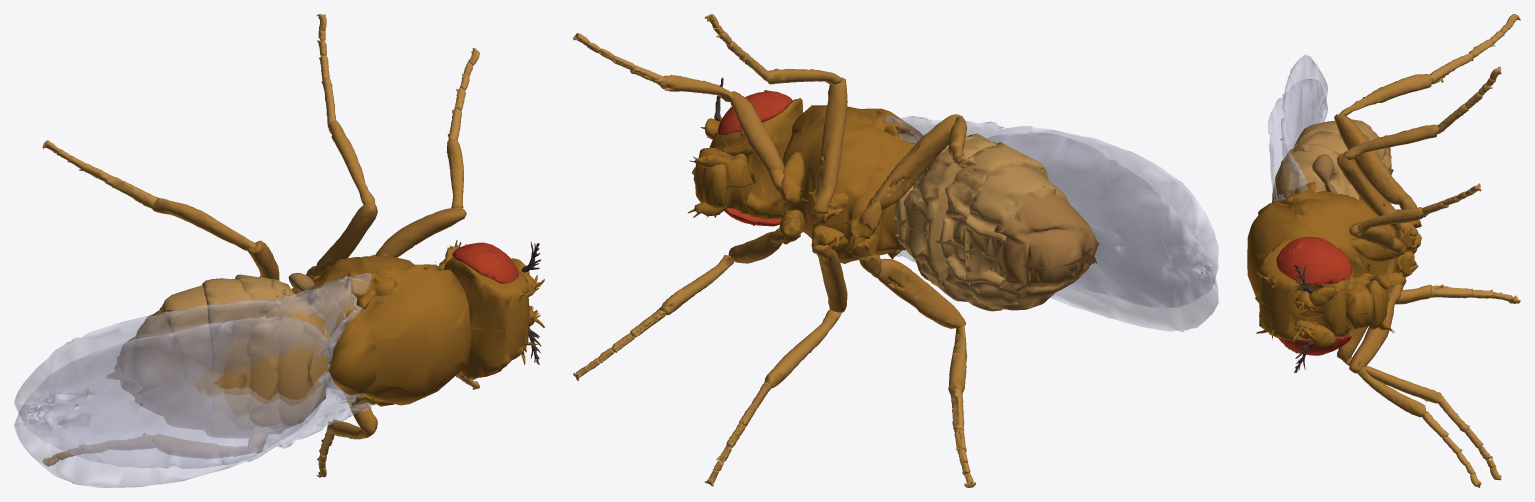
File: fly.glb
3 renders of one model, left to right at view 1: azimuth 30°, elevation 25°; view 2: azimuth 150°, elevation 25°; view 3: azimuth 270°, elevation 25°, orthographic. The views are drawn at different scales.
Parts seen in each view (by area): view 1: l_wing, r_wing, c_thorax, c_abdomen4, c_head, c_abdomen12, c_abdomen6, c_abdomen5, c_abdomen3, lf_trochanterfemur, l_eye, lm_trochanterfemur (+8 smaller); view 2: l_wing, r_wing, c_thorax, c_abdomen6, c_abdomen5, c_abdomen3, c_abdomen4, c_head, lh_trochanterfemur, rh_trochanterfemur, lm_trochanterfemur, c_rostrum (+13 smaller); view 3: c_thorax, c_head, l_wing, r_wing, l_eye, c_abdomen12, lh_trochanterfemur, c_rostrum, lm_trochanterfemur, lh_tibia, rf_trochanterfemur, lm_tibia (+23 smaller).
Part boxes in pixels (x1=…): l_wing: x1=14, y1=273, x2=371, y2=468; r_wing: x1=14, y1=316, x2=371, y2=487; c_thorax: x1=291, y1=256, x2=471, y2=406; c_abdomen4: x1=202, y1=278, x2=254, y2=438; c_head: x1=443, y1=257, x2=540, y2=379; c_abdomen12: x1=271, y1=278, x2=328, y2=428; c_abdomen6: x1=107, y1=309, x2=191, y2=418; c_abdomen5: x1=159, y1=285, x2=219, y2=429; c_abdomen3: x1=235, y1=274, x2=285, y2=435; lf_trochanterfemur: x1=371, y1=206, x2=466, y2=257; l_eye: x1=452, y1=242, x2=518, y2=283; lm_trochanterfemur: x1=306, y1=203, x2=377, y2=277; l_wing: x1=884, y1=114, x2=1218, y2=308; r_wing: x1=896, y1=132, x2=1218, y2=331; c_thorax: x1=782, y1=105, x2=922, y2=263; c_abdomen6: x1=994, y1=195, x2=1099, y2=300; c_abdomen5: x1=960, y1=166, x2=1069, y2=310; c_abdomen3: x1=900, y1=133, x2=996, y2=301; c_abdomen4: x1=935, y1=142, x2=1048, y2=311; c_head: x1=706, y1=97, x2=803, y2=219; lh_trochanterfemur: x1=859, y1=114, x2=966, y2=230; rh_trochanterfemur: x1=859, y1=253, x2=966, y2=328; lm_trochanterfemur: x1=812, y1=77, x2=847, y2=213; c_rostrum: x1=687, y1=148, x2=755, y2=218; c_thorax: x1=1247, y1=181, x2=1399, y2=296; c_head: x1=1254, y1=236, x2=1354, y2=341; l_wing: x1=1277, y1=54, x2=1327, y2=200; r_wing: x1=1268, y1=78, x2=1327, y2=201; l_eye: x1=1276, y1=236, x2=1351, y2=285; c_abdomen12: x1=1272, y1=143, x2=1359, y2=202; lh_trochanterfemur: x1=1334, y1=114, x2=1416, y2=209; c_rostrum: x1=1346, y1=272, x2=1395, y2=333; lm_trochanterfemur: x1=1337, y1=153, x2=1418, y2=236; lh_tibia: x1=1339, y1=74, x2=1433, y2=115; rf_trochanterfemur: x1=1349, y1=284, x2=1402, y2=373; lm_tibia: x1=1342, y1=124, x2=1440, y2=159.
Size of the model in its own units: 3.79 by 3.06 by 1.84.
